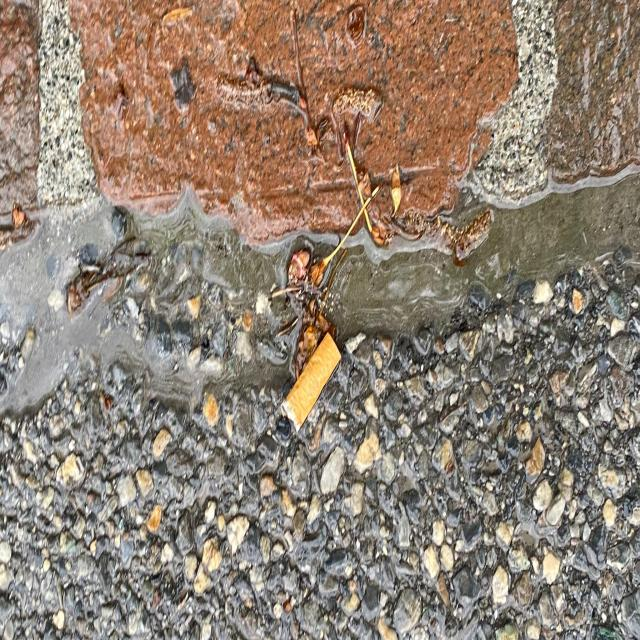other waste: (279, 329, 342, 434)
